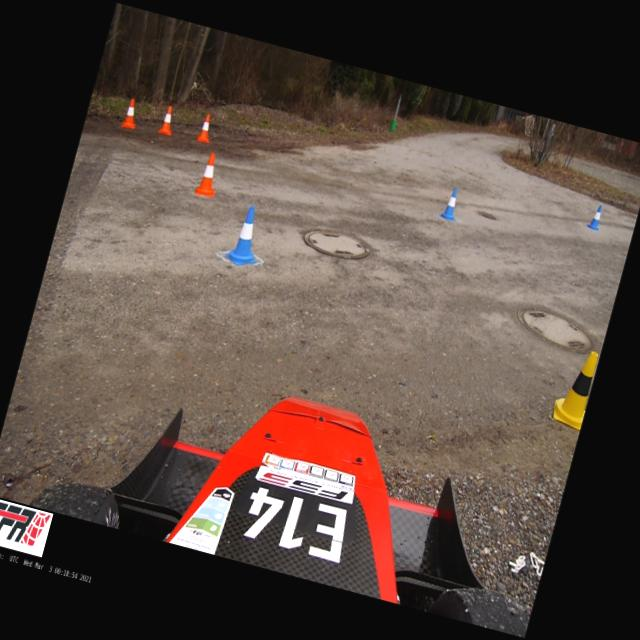blue_cone: (223, 202, 269, 269), (438, 186, 463, 221), (586, 203, 604, 230)
orange_cone: (194, 152, 223, 198), (120, 97, 142, 129), (158, 104, 178, 135), (196, 113, 216, 143)
yellow_cone: (549, 345, 600, 430)
